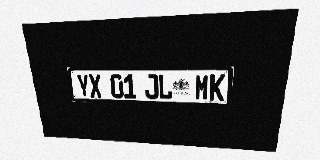0: (110, 74, 124, 98)
1: (122, 74, 136, 99)
J: (145, 74, 158, 99)
K: (209, 74, 225, 101)
L: (158, 74, 172, 99)
M: (194, 74, 210, 100)
X: (88, 74, 102, 98)
Y: (76, 74, 90, 97)
